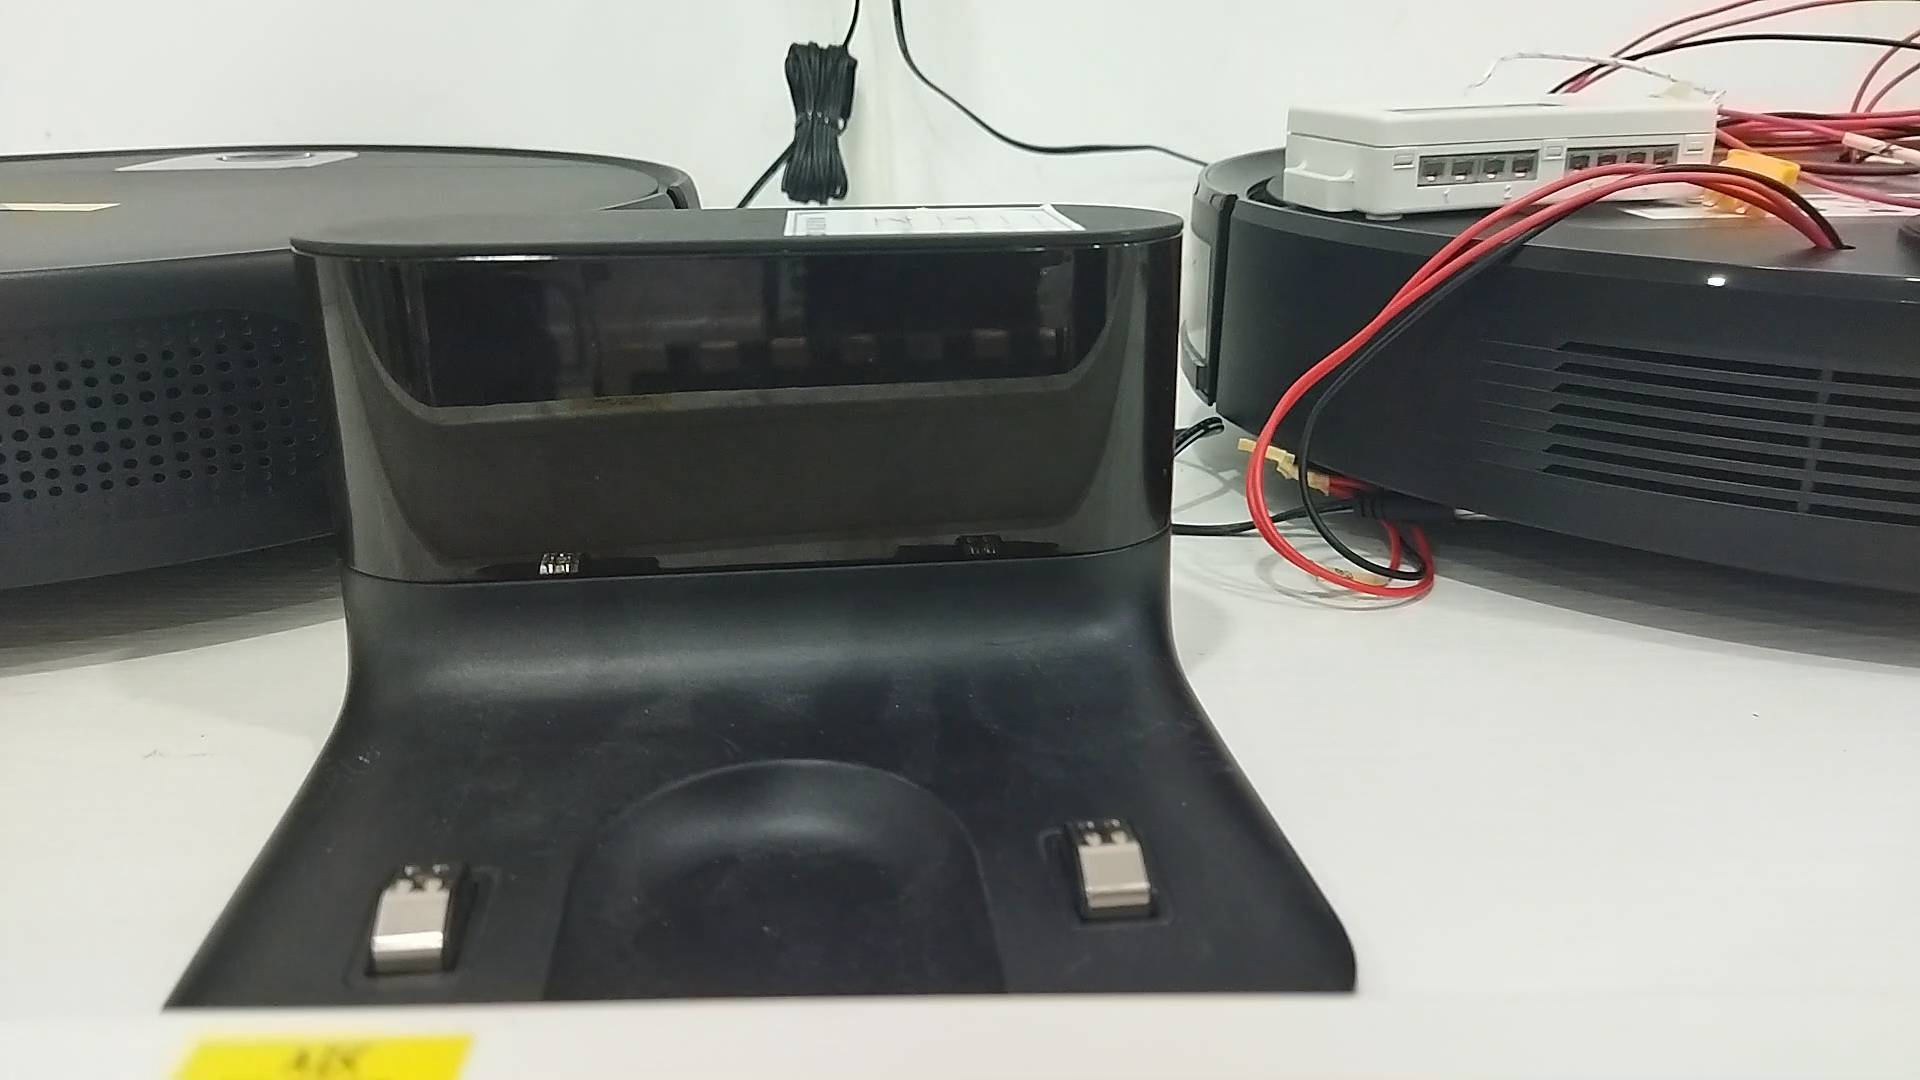recharge seat: (164, 200, 1361, 988)
